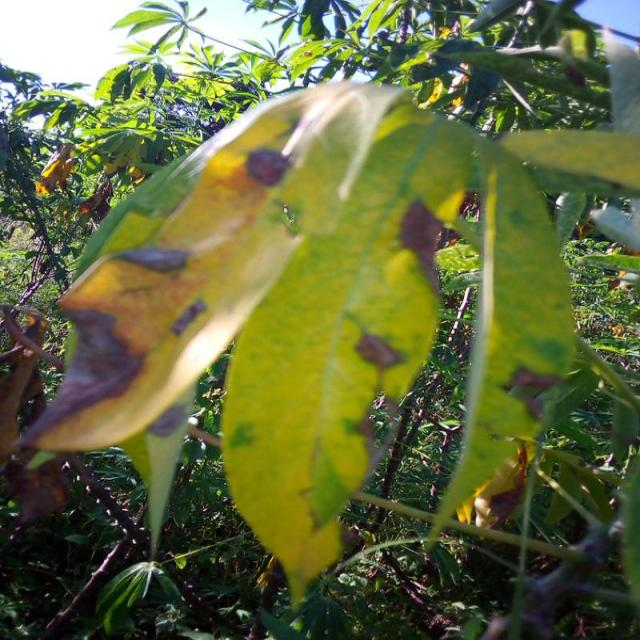cassava leaf: (14, 76, 636, 610)
